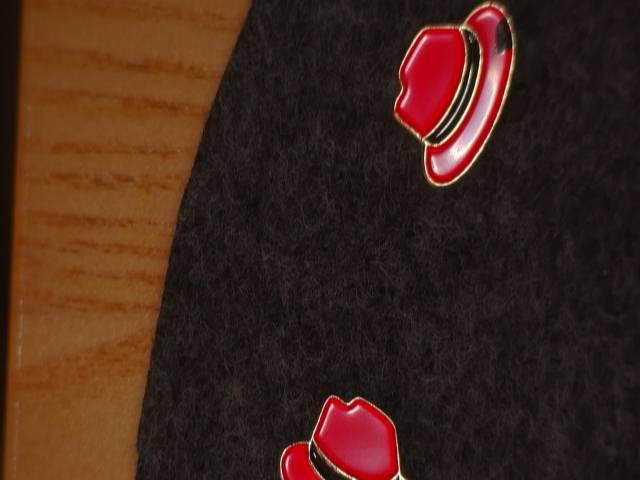Red-Hat: (388, 0, 529, 207), (267, 375, 428, 480)
Scratch: (484, 9, 527, 63)
